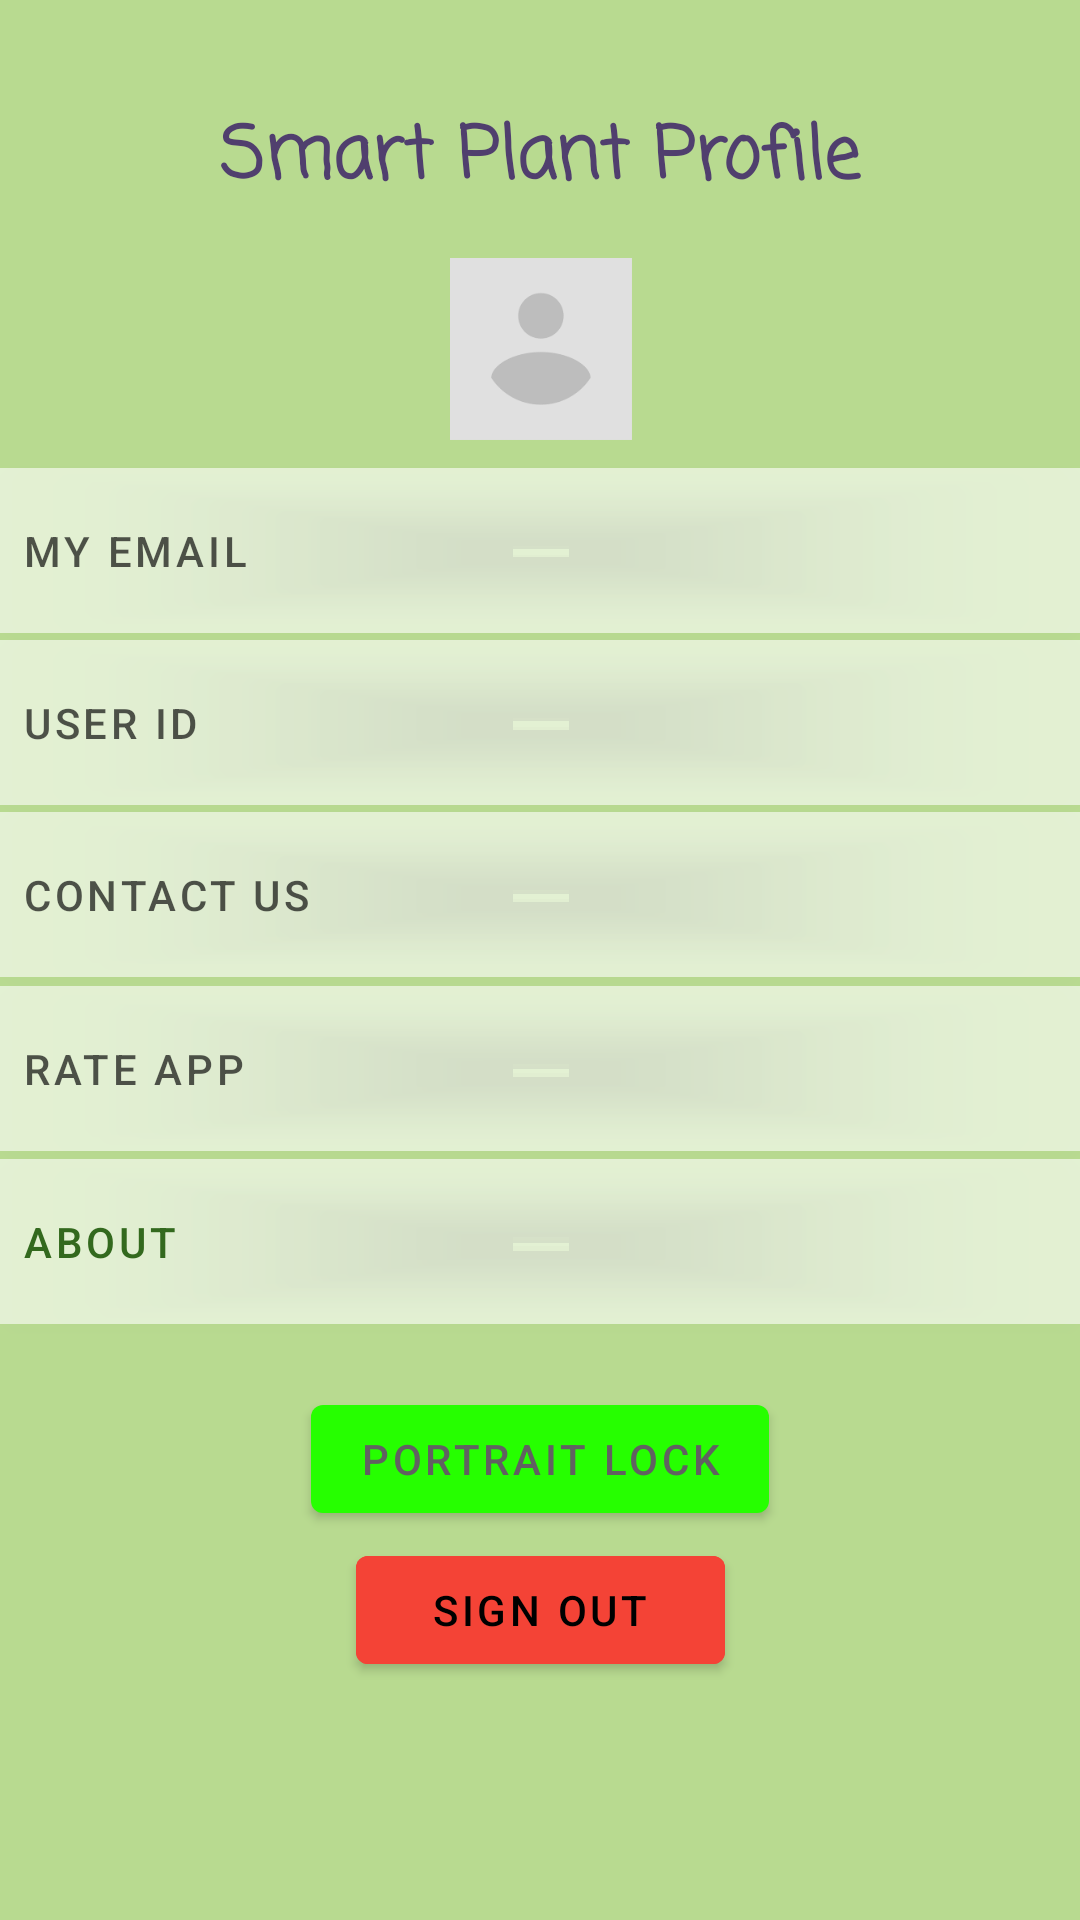

Screen size 1080×1920. Icon name, then its box in pixels as (x1, y1, x2, y2):
accavatar: (450, 258, 632, 440)
